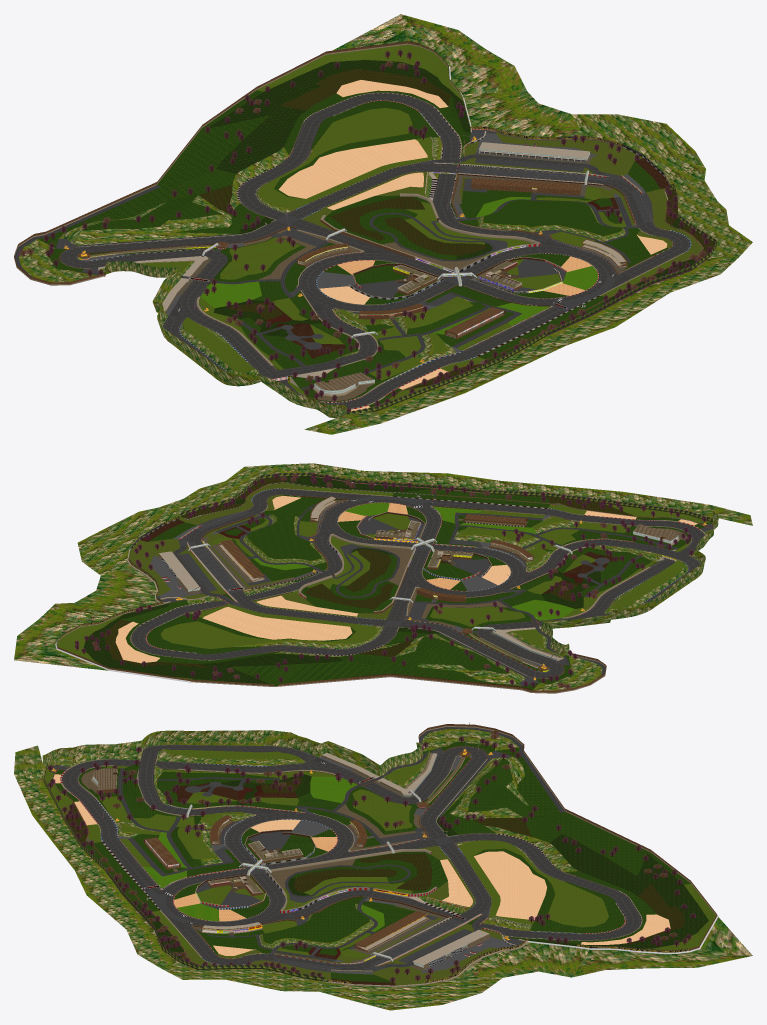
File: splat_track.glb
3 views of the same model, one above another, from view 1: azimuth 30°, elevation 25°; view 2: azimuth 150°, elevation 25°; view 3: azimuth 270°, elevation 25° (orthographic). The views are drawn at different scales.
Parts seen in each view (by area): view 1: 2 10_0CCRKGRN.MAT_0, 2 13_0CCRKGRN.MAT_0, 2 11_0CCRKGRN.MAT_0, 5 9_1RCESAND.MAT_0, 6 9_1RCESAND.MAT_0, 4 10_2GR2.MAT_0, 1 8_0CCRKGRN.MAT_0, 4 6_2GR3.MAT_0, 7 11_2GR3.MAT_0, 0 7_0CCRKGRN.MAT_0, 10 9_2GR3.MAT_0, 1 12_0CCRKGRN.MAT_0 (+39 smaller); view 2: 2 10_0CCRKGRN.MAT_0, 10 9_2GR3.MAT_0, 7 11_2GR3.MAT_0, 5 9_1RCESAND.MAT_0, 6 9_1RCESAND.MAT_0, 0 6_0CCRKGRN.MAT_0, 4 10_2GR2.MAT_0, 2 13_0CCRKGRN.MAT_0, 4 6_2GR3.MAT_0, 2 11_0CCRKGRN.MAT_0, 1 8_0CCRKGRN.MAT_0, 1 12_0CCRKGRN.MAT_0 (+59 smaller); view 3: 2 10_0CCRKGRN.MAT_0, 13 4_0CCRKGRN.MAT_0, 5 9_1RCESAND.MAT_0, 6 9_1RCESAND.MAT_0, 4 10_2GR2.MAT_0, 0 6_0CCRKGRN.MAT_0, 4 6_2GR3.MAT_0, 10 9_2GR3.MAT_0, 2 13_0CCRKGRN.MAT_0, 6 11_4WDGR1.MAT_0, 7 11_2GR3.MAT_0, 1 8_0CCRKGRN.MAT_0 (+50 smaller).
Part boxes in pixels (left/top/right/bottom): 2 10_0CCRKGRN.MAT_0: left=462, top=66, right=537, bottom=126; 2 13_0CCRKGRN.MAT_0: left=368, top=14, right=457, bottom=44; 2 11_0CCRKGRN.MAT_0: left=450, top=49, right=513, bottom=93; 5 9_1RCESAND.MAT_0: left=336, top=139, right=427, bottom=172; 6 9_1RCESAND.MAT_0: left=300, top=152, right=380, bottom=185; 4 10_2GR2.MAT_0: left=325, top=110, right=412, bottom=133; 1 8_0CCRKGRN.MAT_0: left=534, top=114, right=617, bottom=138; 4 6_2GR3.MAT_0: left=470, top=200, right=557, bottom=227; 7 11_2GR3.MAT_0: left=196, top=115, right=269, bottom=160; 0 7_0CCRKGRN.MAT_0: left=627, top=124, right=694, bottom=157; 10 9_2GR3.MAT_0: left=98, top=186, right=191, bottom=223; 1 12_0CCRKGRN.MAT_0: left=423, top=30, right=485, bottom=67; 2 10_0CCRKGRN.MAT_0: left=55, top=590, right=155, bottom=616; 10 9_2GR3.MAT_0: left=394, top=647, right=476, bottom=679; 7 11_2GR3.MAT_0: left=230, top=662, right=326, bottom=685; 5 9_1RCESAND.MAT_0: left=202, top=607, right=279, bottom=636; 6 9_1RCESAND.MAT_0: left=257, top=617, right=320, bottom=639; 0 6_0CCRKGRN.MAT_0: left=102, top=512, right=173, bottom=539; 4 10_2GR2.MAT_0: left=161, top=621, right=230, bottom=648; 2 13_0CCRKGRN.MAT_0: left=14, top=636, right=69, bottom=664; 4 6_2GR3.MAT_0: left=264, top=534, right=316, bottom=574; 2 11_0CCRKGRN.MAT_0: left=39, top=604, right=109, bottom=626; 1 8_0CCRKGRN.MAT_0: left=82, top=561, right=153, bottom=583; 1 12_0CCRKGRN.MAT_0: left=17, top=619, right=76, bottom=644; 2 10_0CCRKGRN.MAT_0: left=528, top=942, right=604, bottom=977; 13 4_0CCRKGRN.MAT_0: left=187, top=730, right=281, bottom=746; 5 9_1RCESAND.MAT_0: left=495, top=887, right=546, bottom=919; 6 9_1RCESAND.MAT_0: left=489, top=867, right=546, bottom=896; 4 10_2GR2.MAT_0: left=546, top=891, right=596, bottom=927; 0 6_0CCRKGRN.MAT_0: left=329, top=983, right=395, bottom=1010; 4 6_2GR3.MAT_0: left=304, top=904, right=390, bottom=926; 10 9_2GR3.MAT_0: left=489, top=776, right=560, bottom=812; 2 13_0CCRKGRN.MAT_0: left=697, top=939, right=752, bottom=967; 6 11_4WDGR1.MAT_0: left=579, top=860, right=650, bottom=891; 7 11_2GR3.MAT_0: left=576, top=840, right=647, bottom=875; 1 8_0CCRKGRN.MAT_0: left=449, top=958, right=502, bottom=992.
Bounding box in the file's own units: 42.47 × 2.18 × 47.22.
95 materials, 94 textured.
